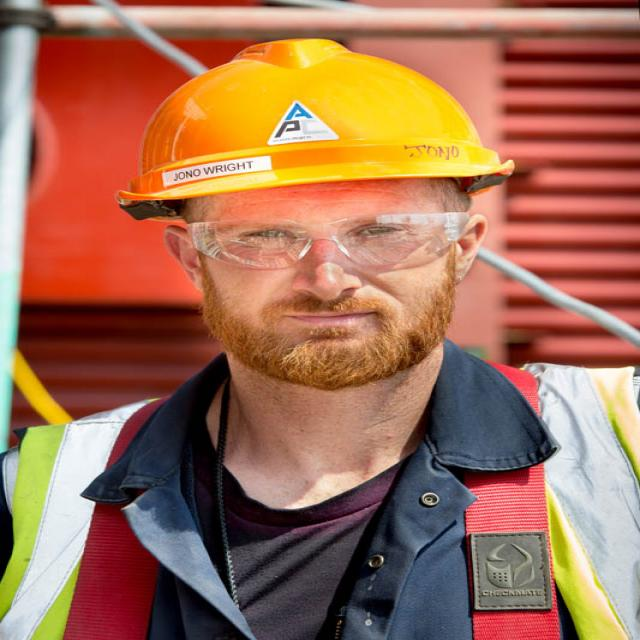Reflective-Jacket: (0, 356, 640, 640)
Safety-Helmet: (118, 40, 516, 202)
